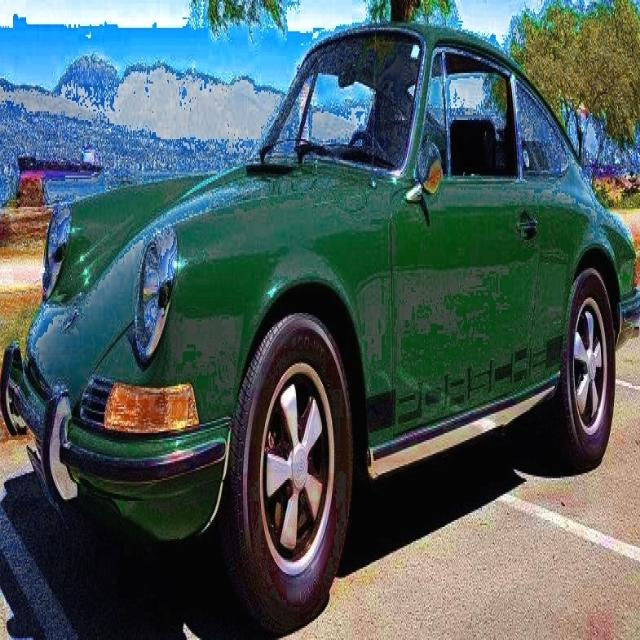green: (4, 23, 639, 624)
